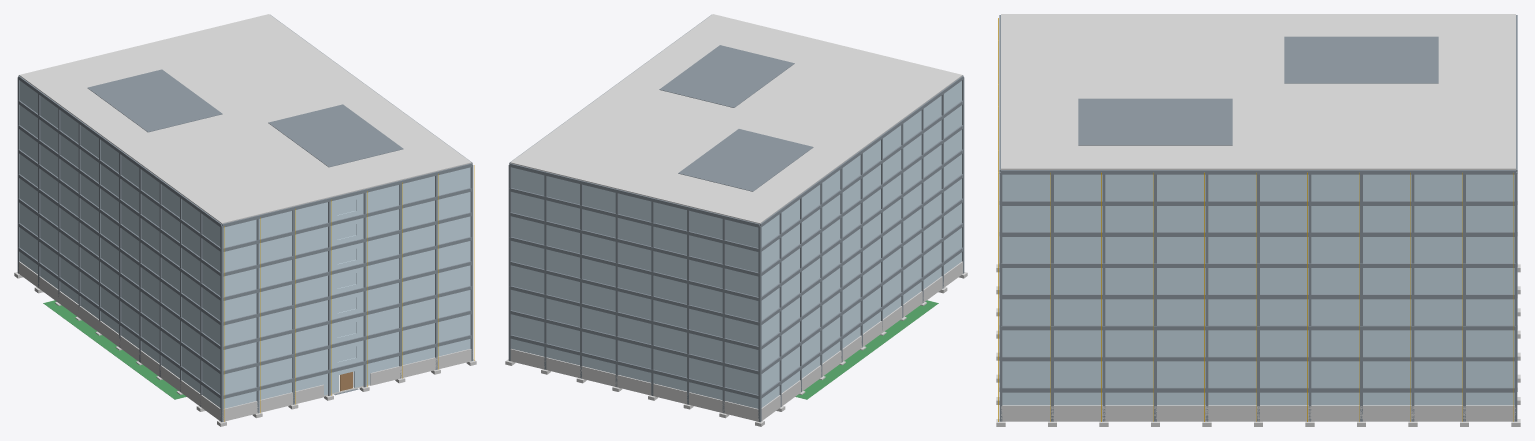
The model's file is generated_building_44.glb.
3 views of the same model, side by side, from view 1: azimuth 30°, elevation 25°; view 2: azimuth 150°, elevation 25°; view 3: azimuth 270°, elevation 25° (orthographic). The views are drawn at different scales.
Visible parts, largest first — view 1: architectural, structural, landscape, windows, electrical; view 2: architectural, structural, landscape; view 3: architectural, structural, landscape, electrical.
Part boxes in pixels (box(x1,y1,x2,y2)): architectural: box(19, 14, 471, 408); structural: box(14, 14, 476, 426); landscape: box(18, 261, 471, 421); windows: box(337, 199, 355, 361); electrical: box(224, 165, 474, 421); architectural: box(510, 14, 962, 408); structural: box(505, 14, 967, 426); landscape: box(510, 261, 962, 421); architectural: box(1001, 14, 1515, 405); structural: box(996, 15, 1520, 426); landscape: box(1001, 405, 1515, 421); electrical: box(998, 18, 1513, 421).
Bounding box in the file's own units: 33.9 × 24.74 × 45.8.
